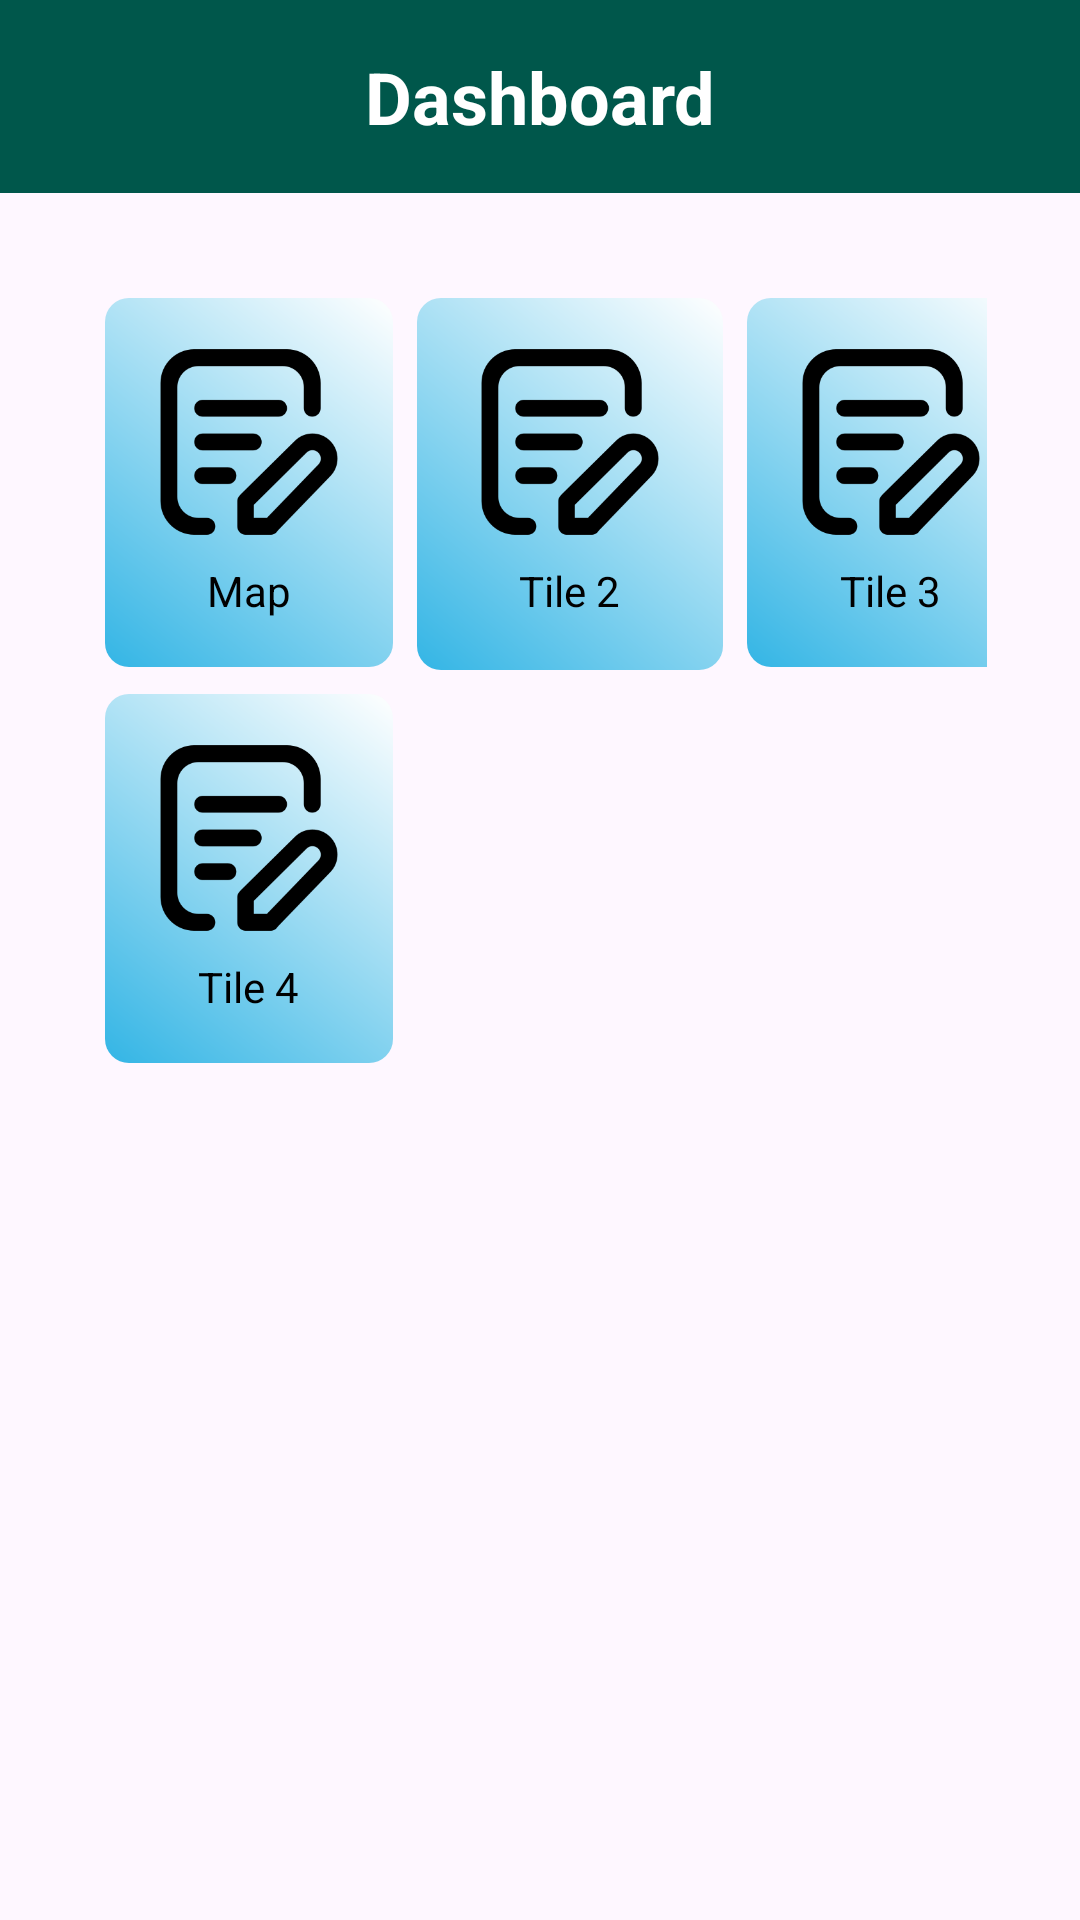

Where to tap for icons on this 1080w x 1920h app screen, as [x,y]:
register: [249,442], [570,442], [891,442], [249,838]
